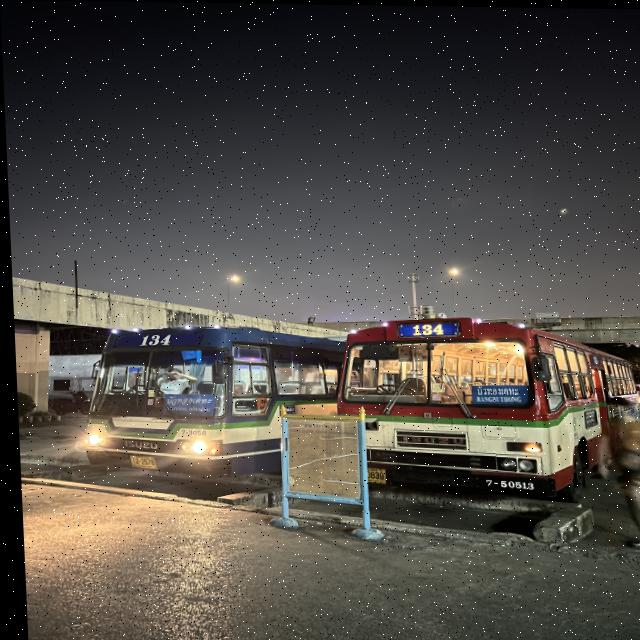BMTA-bus: (334, 317, 628, 499), (81, 326, 341, 478)
Bus Line Number: (405, 323, 448, 335), (134, 333, 170, 347)
Bus Side Number: (478, 476, 537, 493), (176, 428, 203, 437)
Destination Sign: (464, 382, 526, 404), (158, 394, 212, 417)
